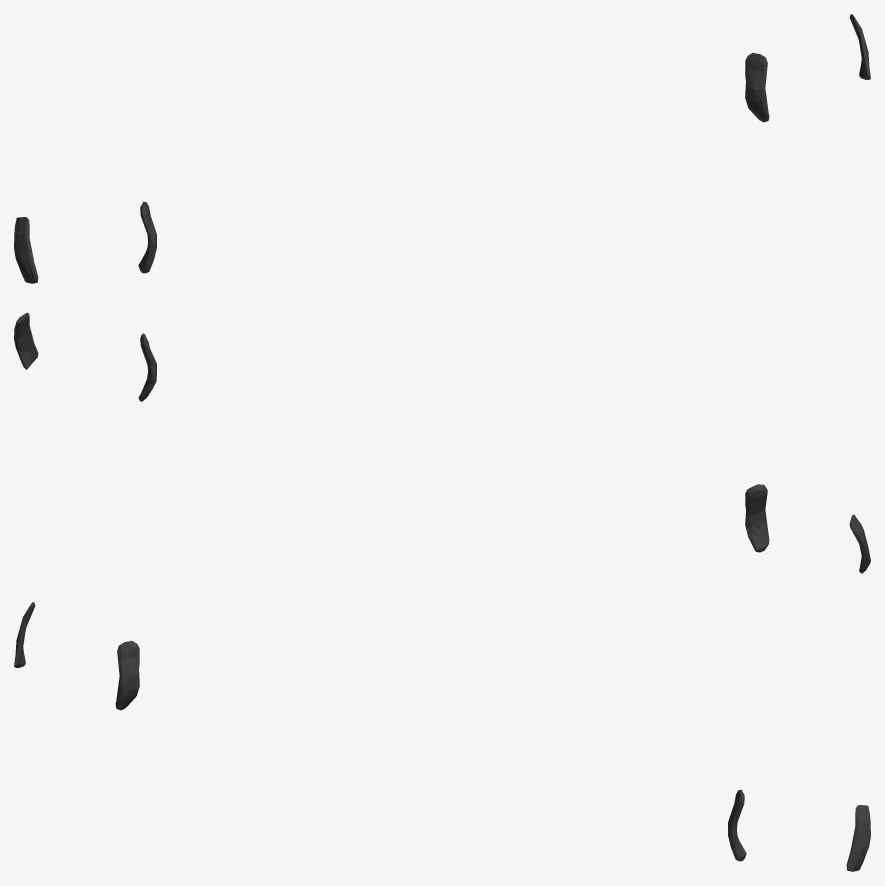
The model's file is lig_collateral_pastern_joint_HL.glb.
3 views of the same model, one above another, from view 1: azimuth 30°, elevation 25°; view 2: azimuth 150°, elevation 25°; view 3: azimuth 330°, elevation 25° (orthographic).
Parts seen in each view (by area): view 1: lig_collateral_pastern_joint_HL; view 2: lig_collateral_pastern_joint_HL; view 3: lig_collateral_pastern_joint_HL.
Boxes of the visible parts, left/top/right/bottom form: lig_collateral_pastern_joint_HL: left=14, top=14, right=870, bottom=283; lig_collateral_pastern_joint_HL: left=14, top=312, right=870, bottom=573; lig_collateral_pastern_joint_HL: left=14, top=602, right=870, bottom=871.
Size of the model in its own units: 0.00594 by 0.000475 by 0.000307.
Materials: 1 (1 with a texture image).
